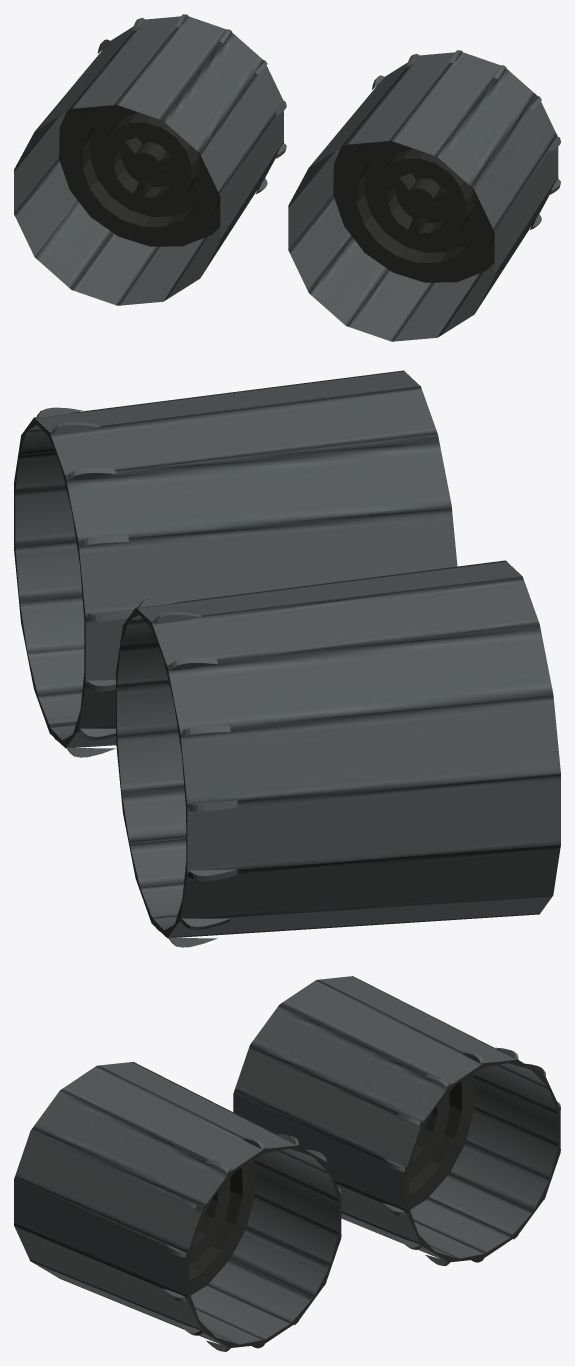
The model's file is tornado_propulsion.glb.
The picture shows the model from 3 angles, top to bottom: view 1: azimuth 30°, elevation 25°; view 2: azimuth 150°, elevation 25°; view 3: azimuth 270°, elevation 25°; orthographic projection. The views are drawn at different scales.
Visible parts, largest first — view 1: NGon01-FACES.001; view 2: NGon01-FACES.001; view 3: NGon01-FACES.001.
Part boxes in pixels (bbox=[...]): NGon01-FACES.001: bbox=[14, 14, 560, 341]; NGon01-FACES.001: bbox=[14, 370, 560, 947]; NGon01-FACES.001: bbox=[14, 976, 560, 1351].
Bounding box in the file's own units: 1.87 × 0.8093 × 1.92.
Materials: 1 (1 with a texture image).
